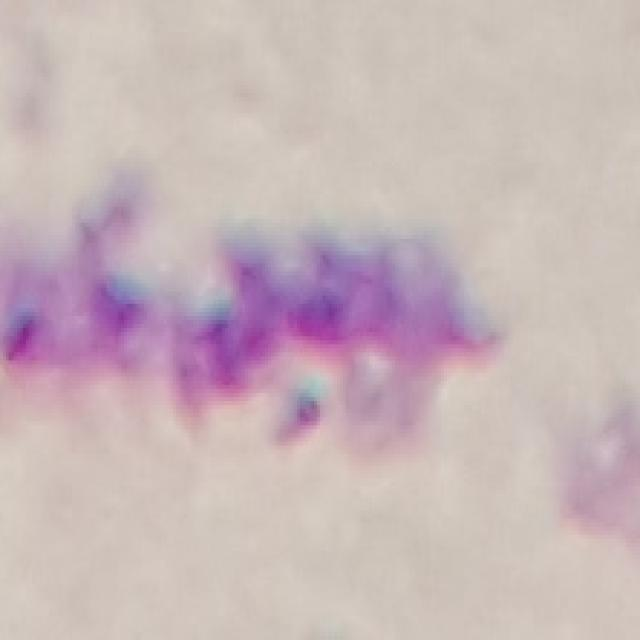non-sperm: (0, 208, 501, 428)
